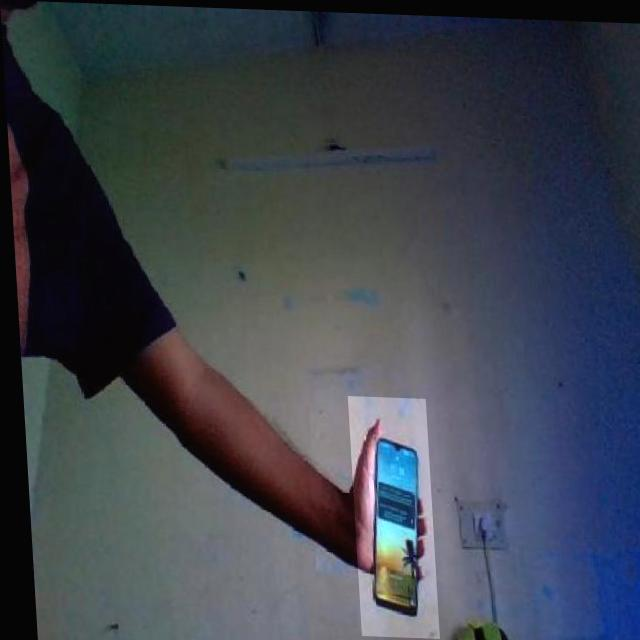Smartphone: (356, 428, 427, 614)
